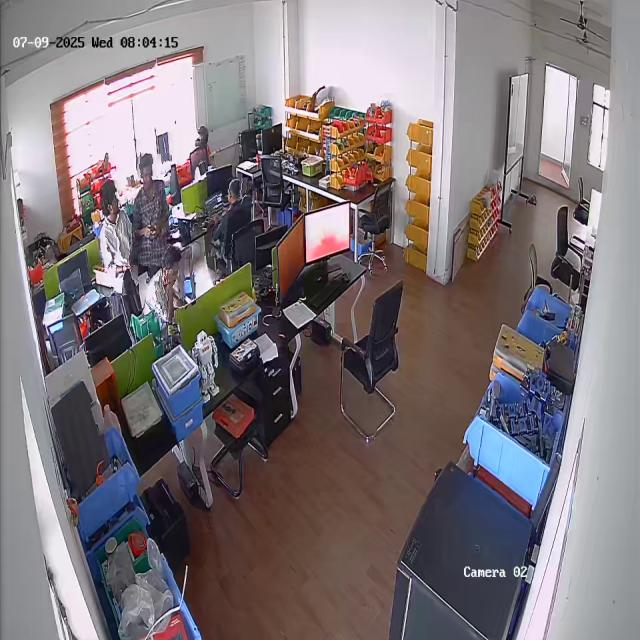person: (94, 177, 137, 297), (132, 152, 170, 266), (207, 175, 253, 260), (146, 244, 188, 324)
